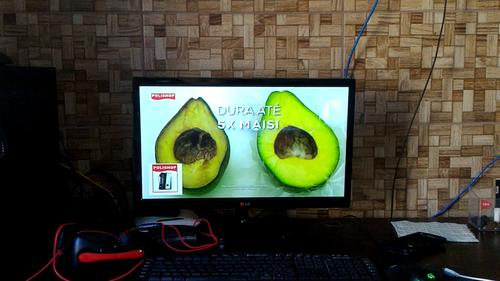Polishop #1: (148, 163, 183, 195)
